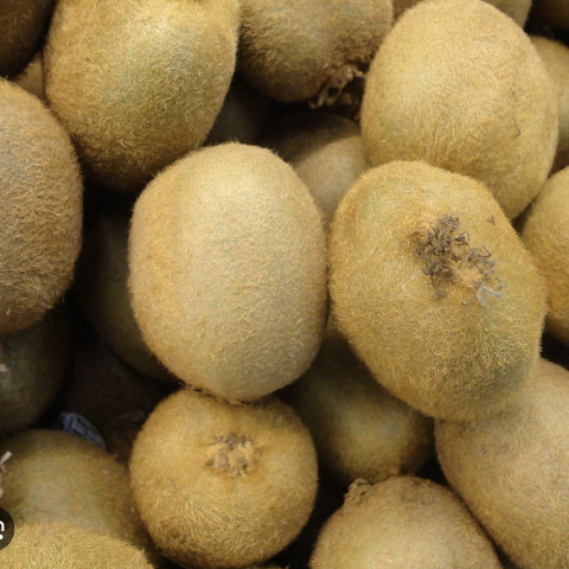kiwi: (105, 141, 353, 425), (314, 145, 551, 436), (353, 0, 566, 220), (123, 366, 321, 568)
